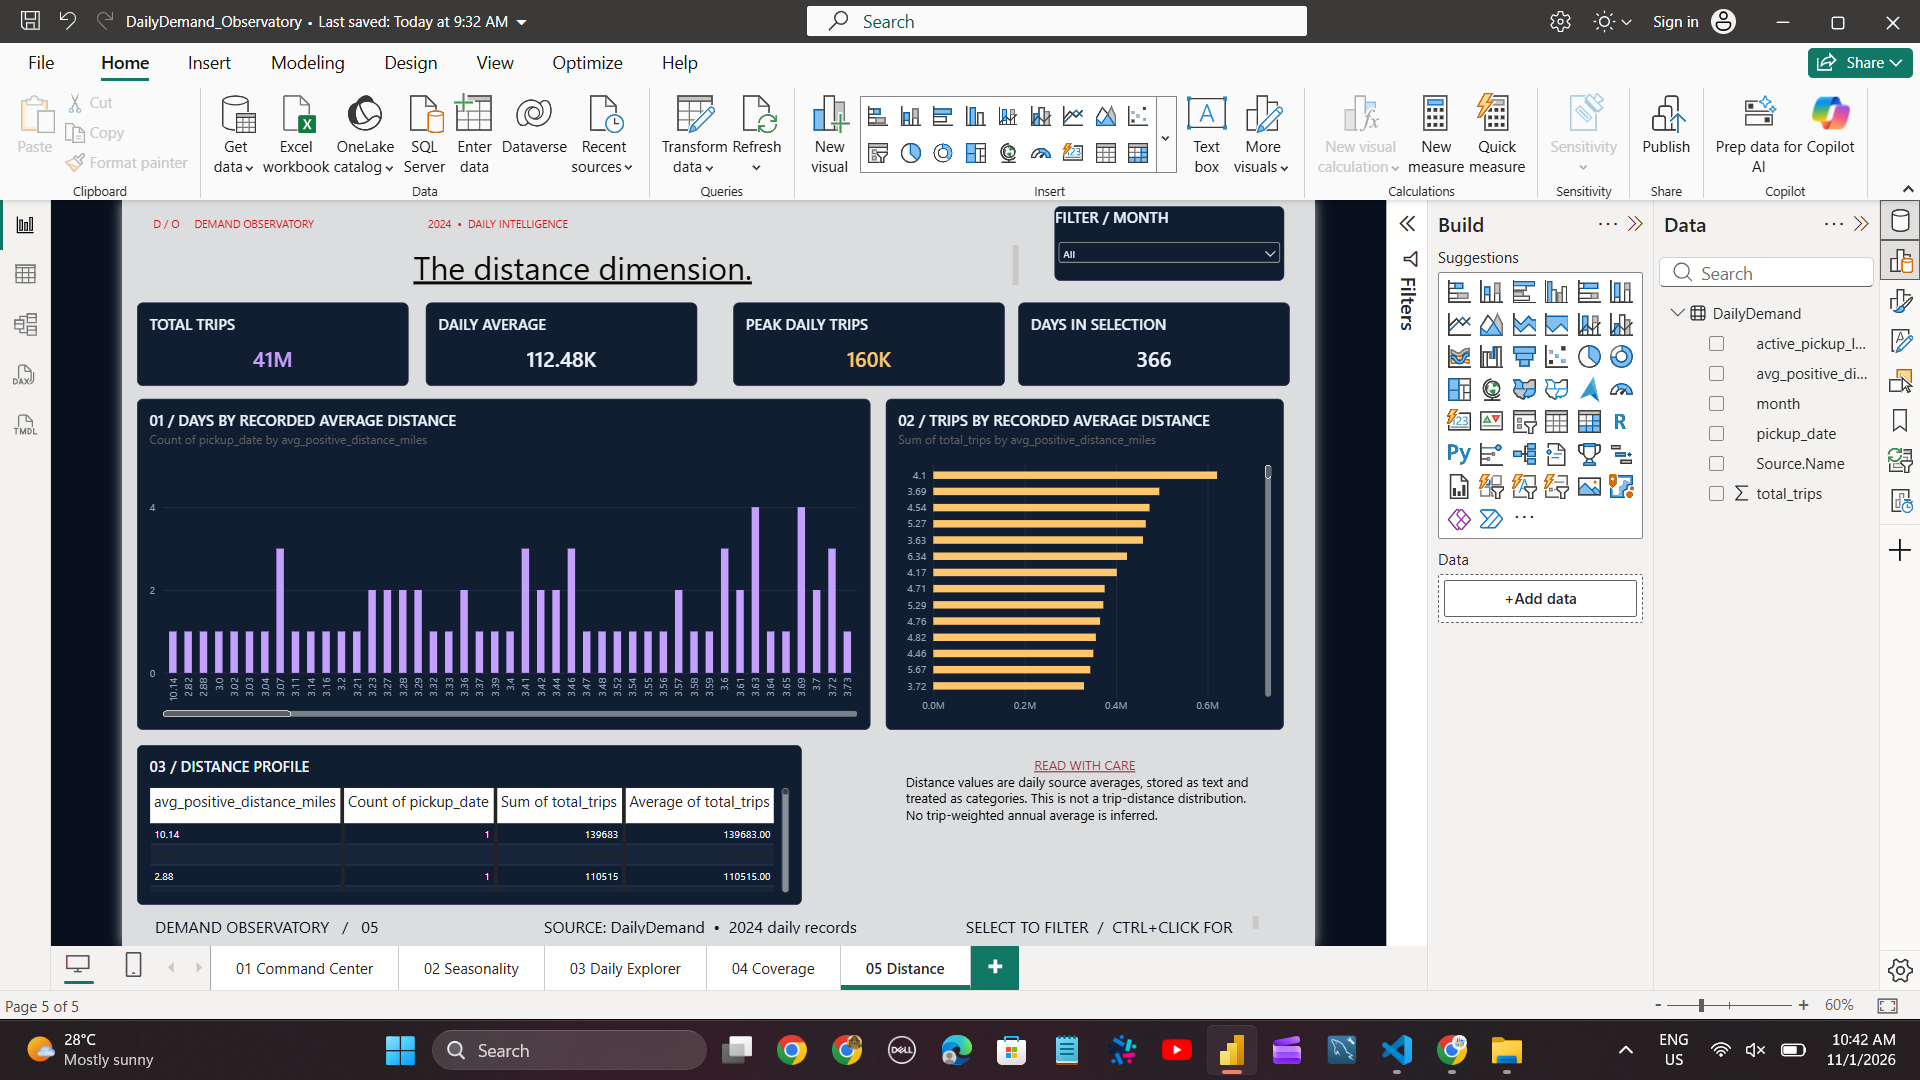

Layout of this report page (visuals, bound fields, positions):
{"tool":"powerbi","page":{"name":"05  Distance","canvas":[1600,1000],"ordinal":4},"visuals":[{"type":"textbox","box":[42,22,900,28],"z":0},{"type":"textbox","box":[42,60,1160,55],"z":1000},{"type":"slicer","title":"FILTER / MONTH","fields":{"Values":["DailyDemand.month"]},"box":[1249.8,9,308,100],"z":4000},{"type":"card","title":"TOTAL TRIPS","fields":{"Values":["Sum(DailyDemand.total_trips)"]},"box":[19.8,137.1,364,112],"z":5000},{"type":"card","title":"DAILY AVERAGE","fields":{"Values":["Avg(DailyDemand.total_trips)"]},"box":[407.6,137.1,364,112],"z":6000},{"type":"card","title":"PEAK DAILY TRIPS","fields":{"Values":["Max(DailyDemand.total_trips)"]},"box":[818.8,137.1,364,112],"z":7000},{"type":"card","title":"DAYS IN SELECTION","fields":{"Values":["CountNonNull(DailyDemand.pickup_date)"]},"box":[1201.1,137.1,364,112],"z":8000},{"type":"clusteredColumnChart","title":"01 / DAYS BY RECORDED AVERAGE DISTANCE","fields":{"Category":["DailyDemand.avg_positive_distance_miles"],"Y":["CountNonNull(DailyDemand.pickup_date)"]},"box":[19.8,266.9,982.9,443.6],"z":9000},{"type":"clusteredBarChart","title":"02 / TRIPS BY RECORDED AVERAGE DISTANCE","fields":{"Category":["DailyDemand.avg_positive_distance_miles"],"Y":["Sum(DailyDemand.total_trips)"]},"box":[1024.4,266.9,533.8,443.6],"z":10000},{"type":"tableEx","title":"03 / DISTANCE PROFILE","fields":{"Values":["DailyDemand.avg_positive_distance_miles","CountNonNull(DailyDemand.pickup_date)","Sum(DailyDemand.total_trips)","Avg(DailyDemand.total_trips)"]},"box":[19.8,730.4,890.9,214.6],"z":11000},{"type":"textbox","box":[1050,745,480,185],"z":12000},{"type":"textbox","box":[44,960,1480,24],"z":13000}]}

Visuals, with their boxes on the page's 1600x1000 design canvas (x1, y1, x2, y2). These are canvas units, not pixel positions in the 1920x1080 screenshot, which may show the page scaled, cropped or inside an application window:
textbox: Rect(42, 22, 942, 50)
textbox: Rect(42, 60, 1202, 115)
"FILTER / MONTH" slicer: Rect(1250, 9, 1558, 109)
"TOTAL TRIPS" card: Rect(20, 137, 384, 249)
"DAILY AVERAGE" card: Rect(408, 137, 772, 249)
"PEAK DAILY TRIPS" card: Rect(819, 137, 1183, 249)
"DAYS IN SELECTION" card: Rect(1201, 137, 1565, 249)
"01 / DAYS BY RECORDED AVERAGE DISTANCE" clusteredColumnChart: Rect(20, 267, 1003, 710)
"02 / TRIPS BY RECORDED AVERAGE DISTANCE" clusteredBarChart: Rect(1024, 267, 1558, 710)
"03 / DISTANCE PROFILE" tableEx: Rect(20, 730, 911, 945)
textbox: Rect(1050, 745, 1530, 930)
textbox: Rect(44, 960, 1524, 984)
